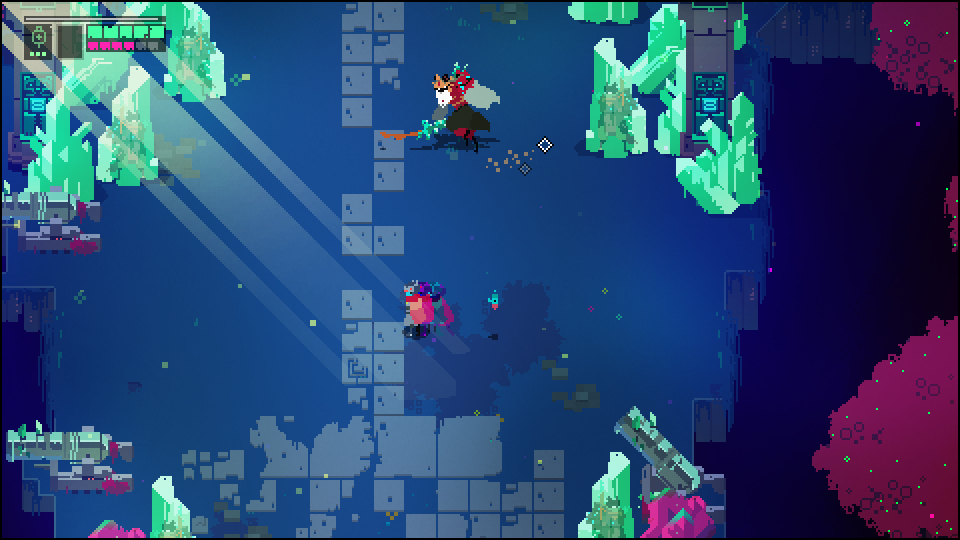hanged_man: (409, 57, 503, 154)
player: (402, 274, 431, 346)
